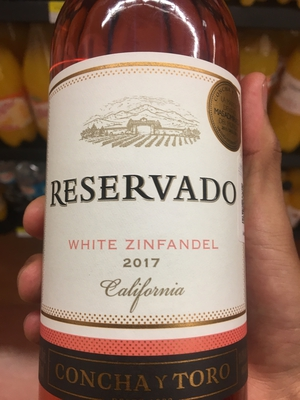reservado white zinfandel: (49, 4, 243, 400)
